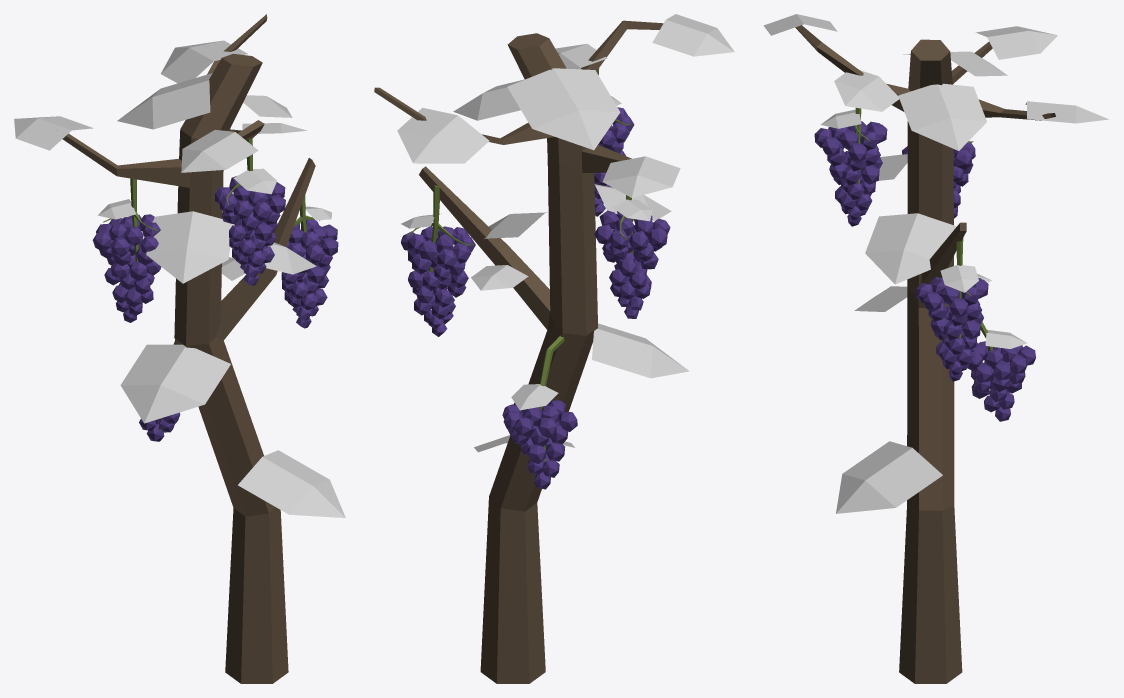
File: SM_Envr_Nature_Farm_Plant_Grape_02.fbx
The picture shows the model from 3 angles, left to right: view 1: azimuth 30°, elevation 25°; view 2: azimuth 150°, elevation 25°; view 3: azimuth 270°, elevation 25°; orthographic projection. The views are drawn at different scales.
Parts seen in each view (by area): view 1: SM_Envr_Nature_Farm_Plant_Grape_02; view 2: SM_Envr_Nature_Farm_Plant_Grape_02; view 3: SM_Envr_Nature_Farm_Plant_Grape_02.
Boxes of the visible parts, x1=… form: SM_Envr_Nature_Farm_Plant_Grape_02: x1=14, y1=14, x2=345, y2=683; SM_Envr_Nature_Farm_Plant_Grape_02: x1=374, y1=14, x2=734, y2=683; SM_Envr_Nature_Farm_Plant_Grape_02: x1=763, y1=14, x2=1109, y2=683.
Bounding box in the file's own units: 72.99 × 148 × 75.07.
